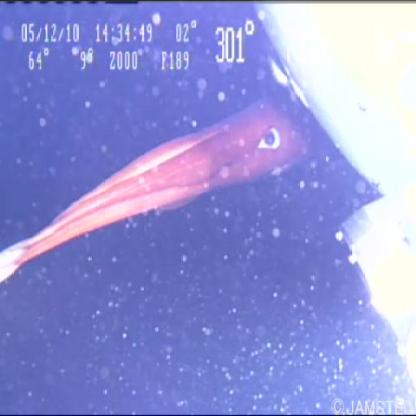Bio: (1, 97, 308, 288)
